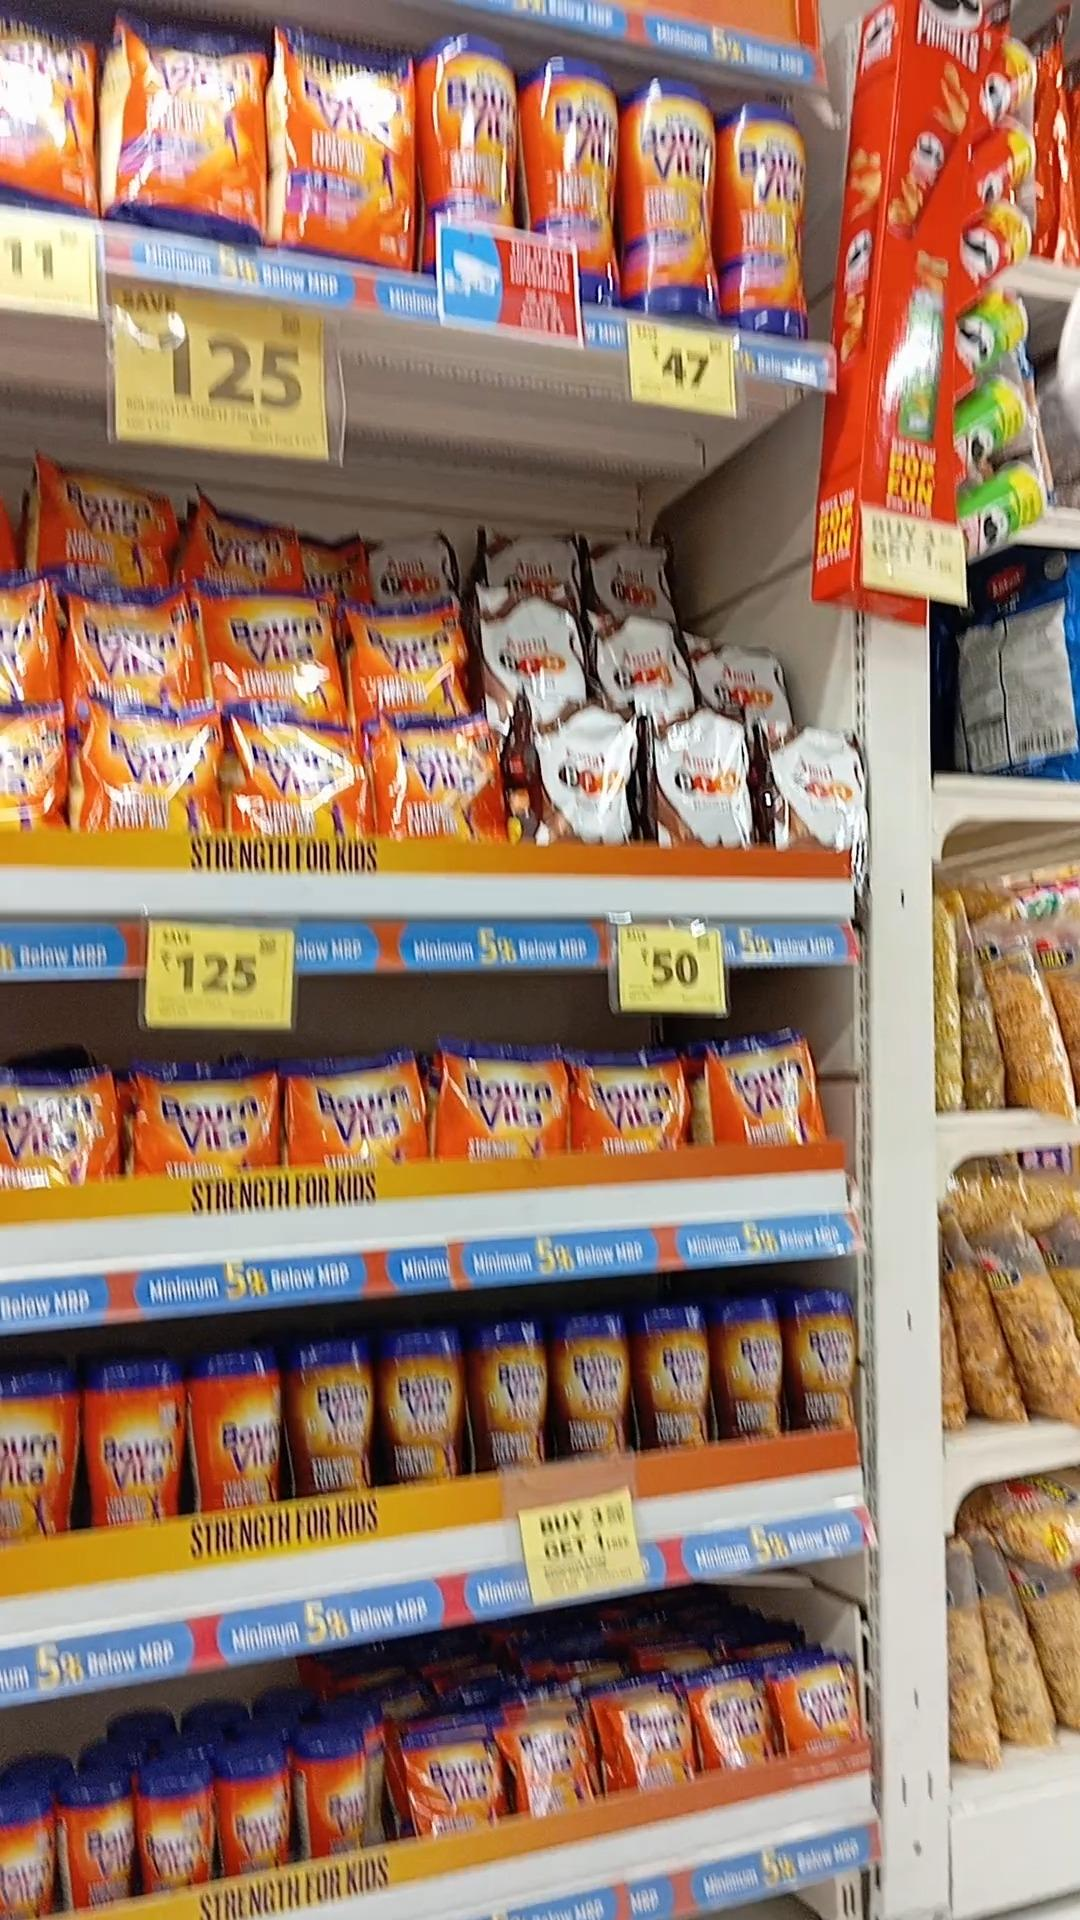BOURN_VITA_1_KG_JAR: (527, 38, 621, 305), (628, 73, 720, 323), (724, 99, 808, 343), (425, 24, 517, 225)
BOURN_VITA_1_KG_POUCH: (115, 17, 269, 241), (289, 22, 415, 266), (0, 5, 99, 219)
BOURN_VITA_200_G_JAR: (58, 1775, 132, 1913), (218, 1747, 293, 1870), (301, 1731, 361, 1867), (0, 1788, 55, 1920), (142, 1771, 207, 1882)
BOURN_VITA_500_G_JAR: (186, 1341, 282, 1514), (79, 1350, 169, 1535), (0, 1357, 70, 1551)
BOURN_VITA_500_G_POUCH: (123, 1052, 265, 1176), (431, 1039, 554, 1159), (711, 1027, 820, 1154), (291, 1058, 418, 1167), (0, 1059, 105, 1184), (574, 1056, 678, 1163)
BOURN_VITA_750_G_POUCH: (87, 698, 225, 835), (224, 698, 361, 835), (67, 575, 195, 703), (376, 711, 496, 841), (207, 584, 328, 705), (345, 600, 452, 713)
BOURN_VITA_75_G_POUCH: (410, 1731, 501, 1845), (603, 1683, 683, 1800), (510, 1709, 596, 1818), (694, 1675, 771, 1784), (778, 1656, 856, 1758)
BOURN_VITA_FIVE_STAR_MAGIC_500_G_JAR: (297, 1324, 372, 1514), (380, 1315, 462, 1485), (477, 1316, 550, 1481), (642, 1300, 713, 1468), (558, 1309, 630, 1465), (719, 1290, 786, 1444), (791, 1276, 855, 1433)
